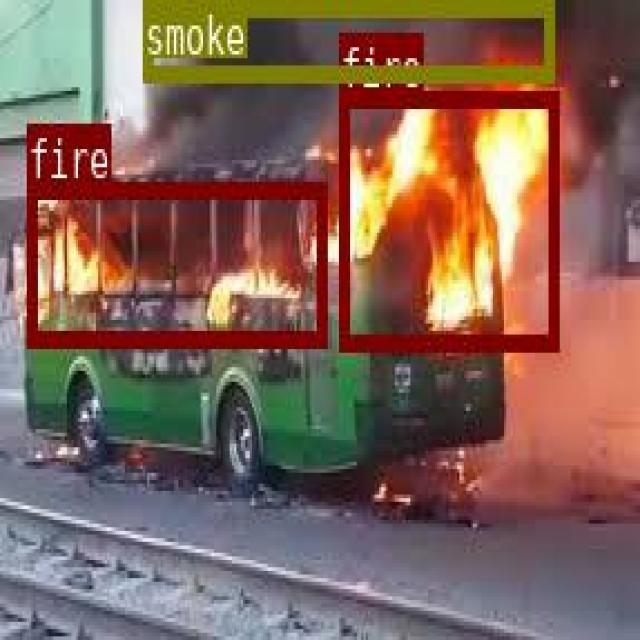fire: (338, 88, 557, 347), (26, 179, 325, 344)
smoke: (140, 0, 551, 80)
